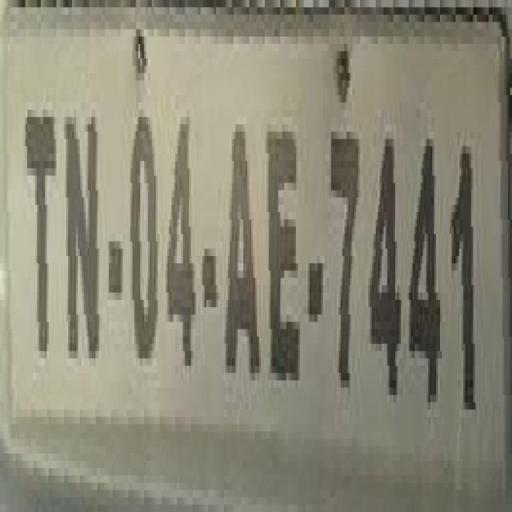number plate: (5, 0, 512, 468)
